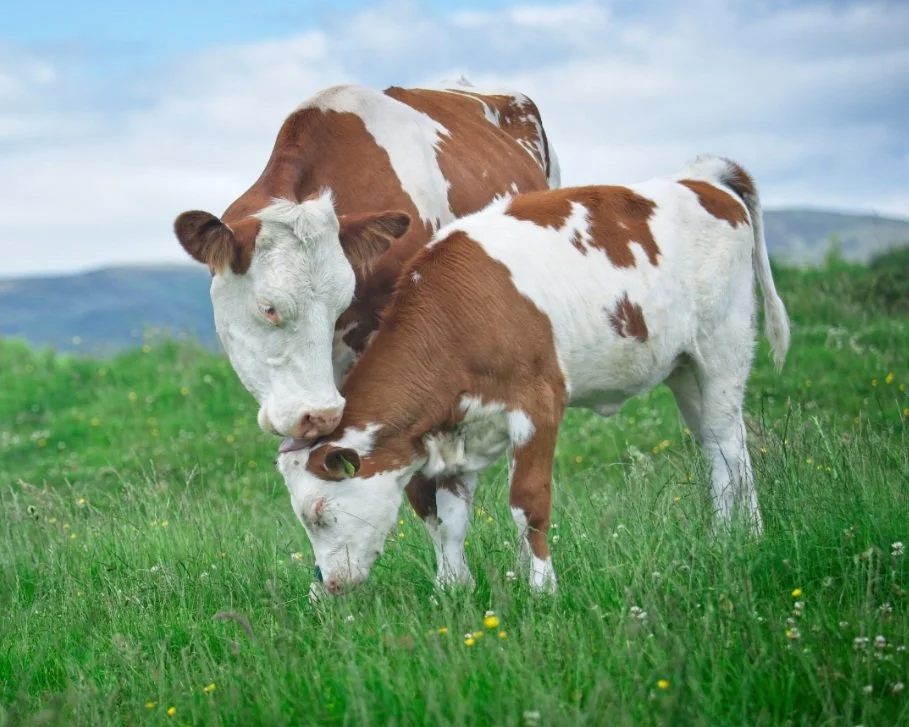cow: (317, 163, 783, 622), (175, 74, 586, 586)
